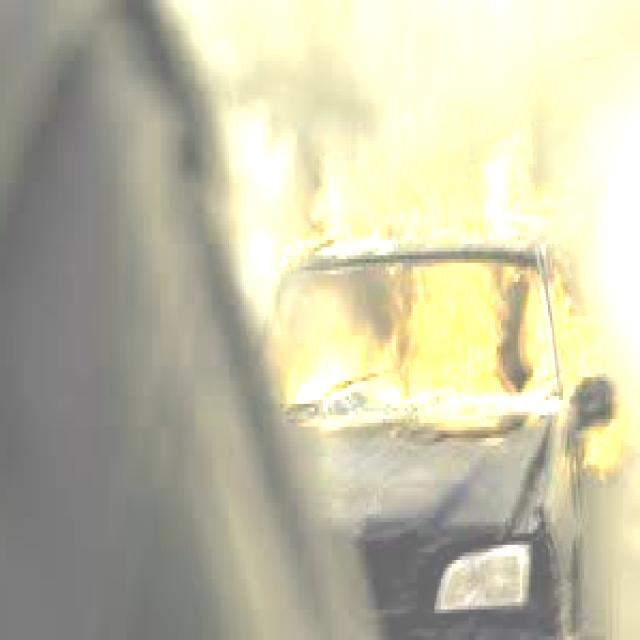fire: (274, 126, 595, 430)
